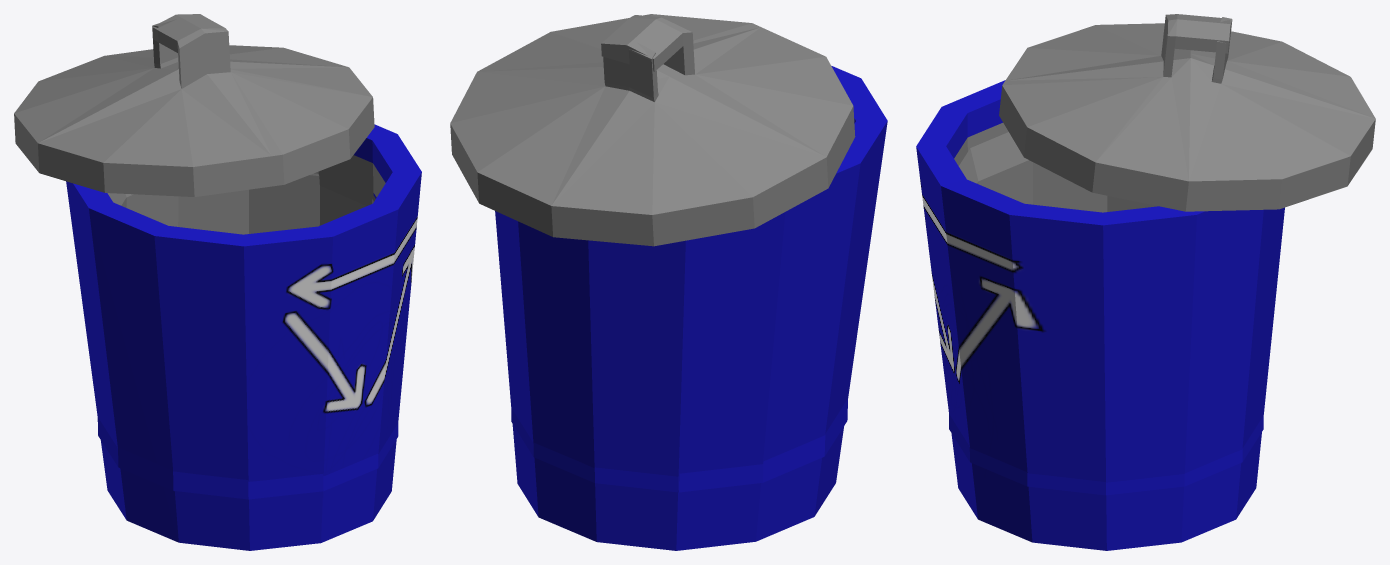
The model's file is TrashCan.fbx.
3 views of the same model, side by side, from view 1: azimuth 30°, elevation 25°; view 2: azimuth 150°, elevation 25°; view 3: azimuth 270°, elevation 25° (orthographic). The views are drawn at different scales.
Visible parts, largest first — view 1: Cylinder.002, Cylinder.001; view 2: Cylinder.002, Cylinder.001; view 3: Cylinder.002, Cylinder.001.
Part boxes in pixels (x1,y1,x2,y2): Cylinder.002: (66, 124, 421, 550); Cylinder.001: (14, 14, 374, 196); Cylinder.002: (495, 66, 887, 550); Cylinder.001: (450, 14, 855, 246); Cylinder.002: (916, 80, 1284, 550); Cylinder.001: (999, 14, 1375, 211).
Bounding box in the file's own units: 57.79 × 76.52 × 69.09.
Materials: 2 (1 with a texture image).
